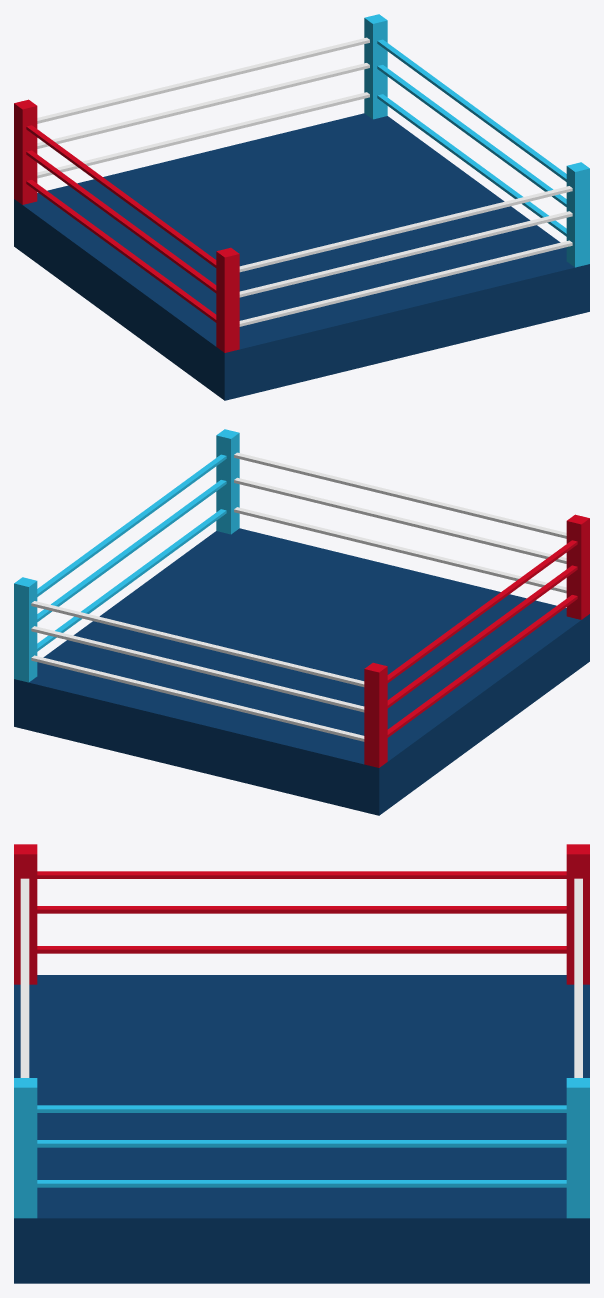
Rendered from Ring.glb.
3 views of the same model, one above another, from view 1: azimuth 30°, elevation 25°; view 2: azimuth 150°, elevation 25°; view 3: azimuth 270°, elevation 25° (orthographic). The views are drawn at different scales.
Parts seen in each view (by area): view 1: Ring_Model; view 2: Ring_Model; view 3: Ring_Model.
Part boxes in pixels (box(x1,y1,x2,y2)): Ring_Model: box(14, 14, 589, 400); Ring_Model: box(14, 429, 589, 815); Ring_Model: box(14, 844, 589, 1283).
Bounding box in the file's own units: 8 × 3 × 8.
Materials: 1 (1 with a texture image).
